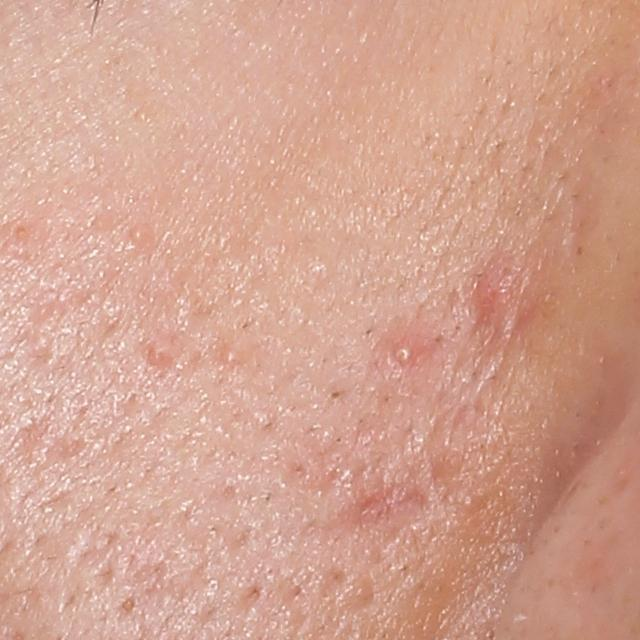atrophic_scar: (323, 476, 442, 547), (6, 414, 55, 469)
comedo: (119, 592, 141, 613), (219, 348, 241, 366), (327, 386, 343, 403)
papule: (474, 282, 516, 316)
pustule: (393, 342, 414, 363)
